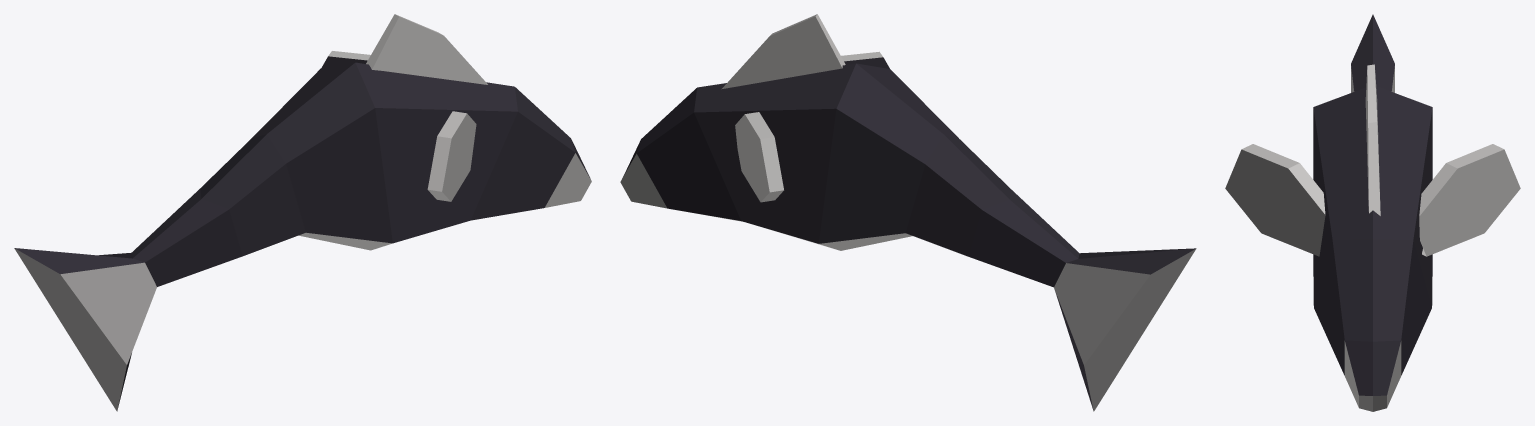
The model's file is Animal_Fish_001.fbx.
3 views of the same model, side by side, from view 1: azimuth 30°, elevation 25°; view 2: azimuth 150°, elevation 25°; view 3: azimuth 270°, elevation 25° (orthographic). The views are drawn at different scales.
Parts seen in each view (by area): view 1: Animal_Fish_001; view 2: Animal_Fish_001; view 3: Animal_Fish_001.
Boxes of the visible parts, <box> form: Animal_Fish_001: <box>14,14,591,411</box>; Animal_Fish_001: <box>620,14,1196,411</box>; Animal_Fish_001: <box>1225,14,1520,411</box>.
Size of the model in its own units: 91.07 by 49.91 by 36.92.
